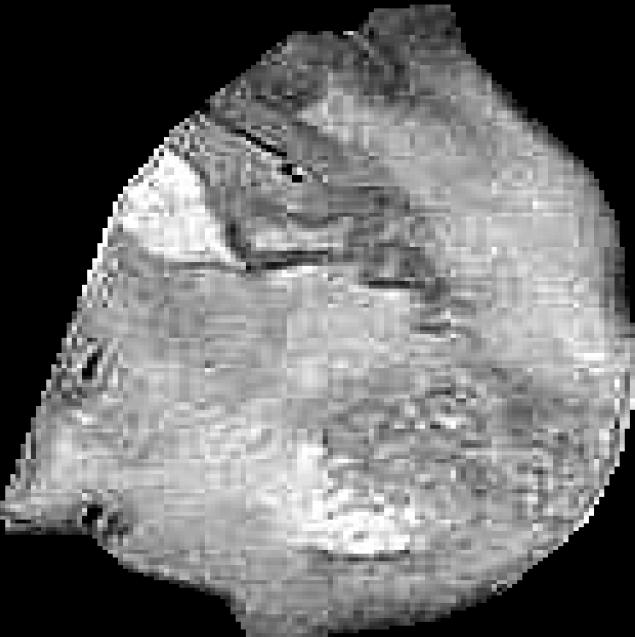tumor_less_chance: (0, 1, 635, 637)
